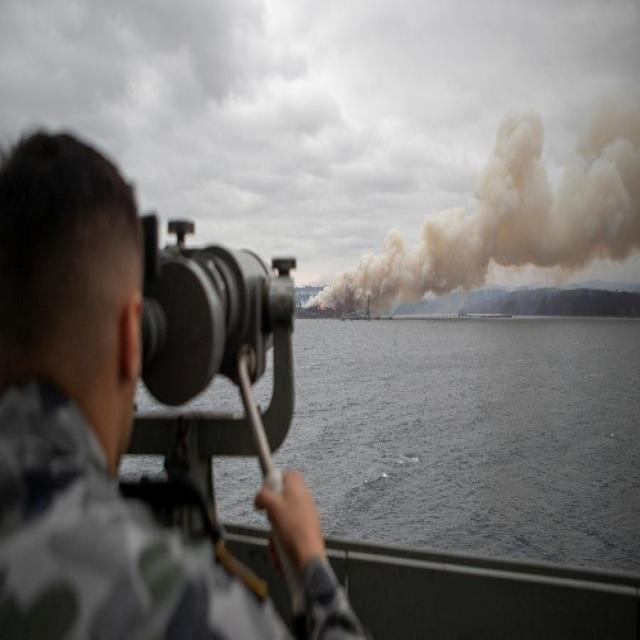Fire: (316, 303, 326, 313)
Smoke: (495, 104, 640, 273), (387, 164, 492, 302), (338, 238, 386, 318), (318, 282, 337, 302), (299, 294, 316, 308), (328, 302, 337, 314)
